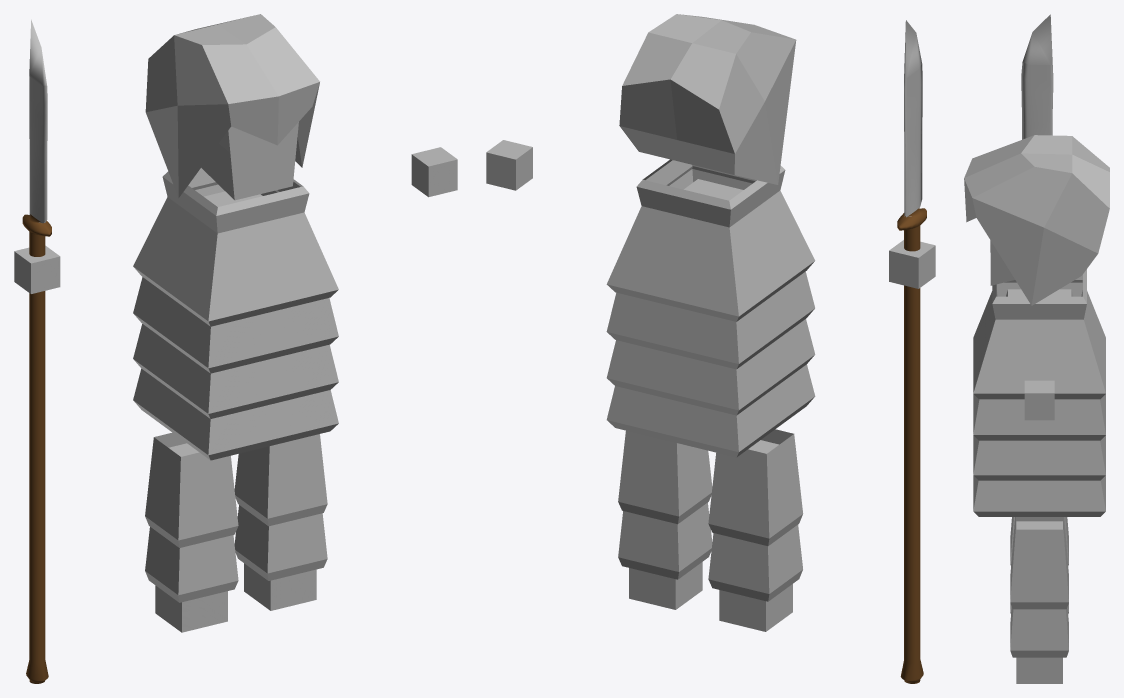
Rendered from enemy_Two.fbx.
The picture shows the model from 3 angles, left to right: view 1: azimuth 30°, elevation 25°; view 2: azimuth 150°, elevation 25°; view 3: azimuth 270°, elevation 25°; orthographic projection. The views are drawn at different scales.
Parts seen in each view (by area): view 1: pCube19, pCube18, pCube8, pCube20, pCube21, pCylinder1; view 2: pCube19, pCube18, pCube20, pCube21, pCylinder1, pCube8; view 3: pCube19, pCube18, pCube21, pCube8, pCylinder1, pCube20.
Part boxes in pixels (x1,y1,x2,y2): pCube19: (133,168,338,460); pCube18: (145,14,319,197); pCube8: (14,122,457,632); pCube20: (145,432,238,602); pCube21: (234,434,327,580); pCylinder1: (22,19,51,683); pCube19: (606,159,815,457); pCube18: (619,14,796,184); pCube20: (708,429,803,601); pCube21: (618,430,712,579); pCylinder1: (897,20,926,683); pCube8: (486,140,935,631); pCube19: (973,269,1105,516); pCube18: (964,135,1109,305); pCube21: (1010,517,1068,657); pCube8: (990,240,1073,683); pCylinder1: (1021,14,1053,139); pCube20: (1010,517,1068,613).
Bounding box in the file's own units: 4.03 × 5.93 × 1.36.
